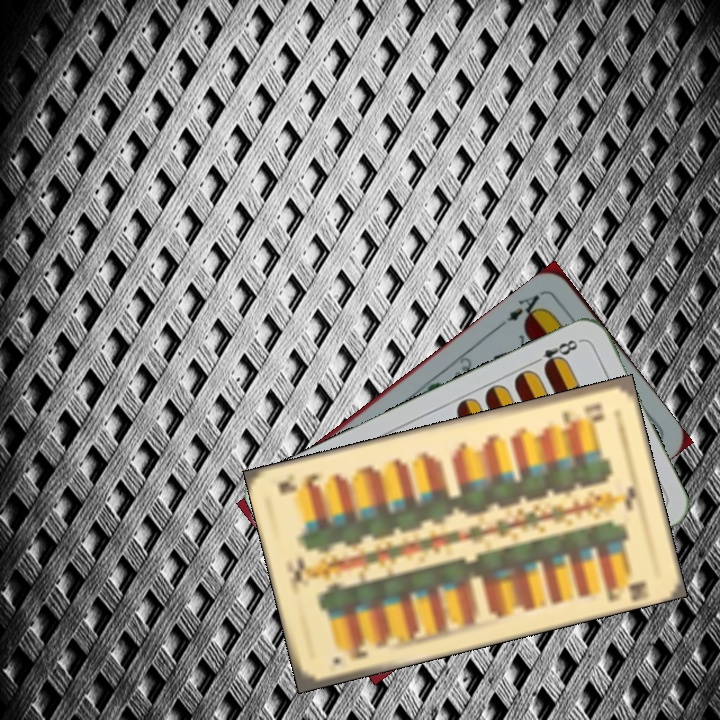E10: (559, 399, 606, 426), (328, 640, 371, 668)
E8: (528, 335, 584, 372)
EA: (496, 287, 547, 329)
